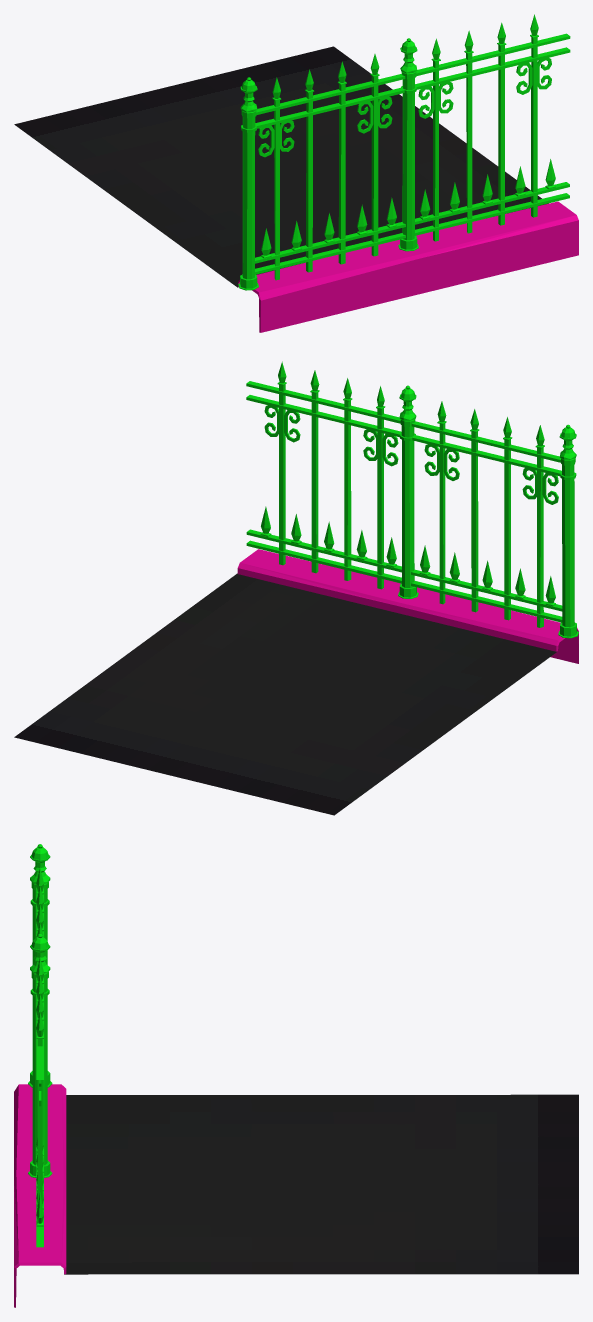
Rendered from City_Fence19.fbx.
3 renders of one model, top to bottom at view 1: azimuth 30°, elevation 25°; view 2: azimuth 150°, elevation 25°; view 3: azimuth 270°, elevation 25°, orthographic. The views are drawn at different scales.
Visible parts, largest first — view 1: SM_City_Fence_05a_02.mo; view 2: SM_City_Fence_05a_02.mo; view 3: SM_City_Fence_05a_02.mo.
Boxes of the visible parts, x1,y1,x2,y2 form: SM_City_Fence_05a_02.mo: (14, 14, 578, 332); SM_City_Fence_05a_02.mo: (14, 361, 578, 815); SM_City_Fence_05a_02.mo: (14, 844, 578, 1307).
Bounding box in the file's own units: 309 × 222 × 399.
